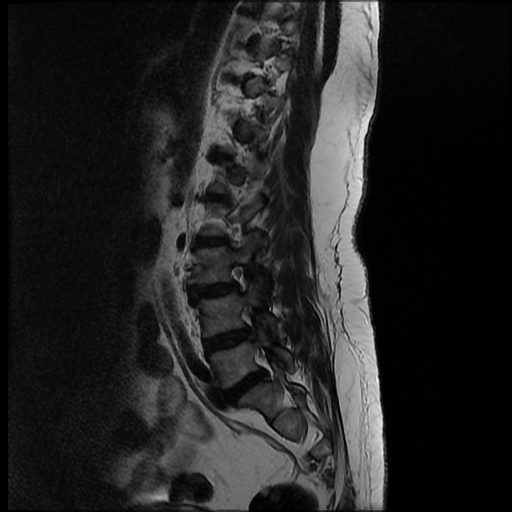LFS0: (223, 257, 253, 302)
